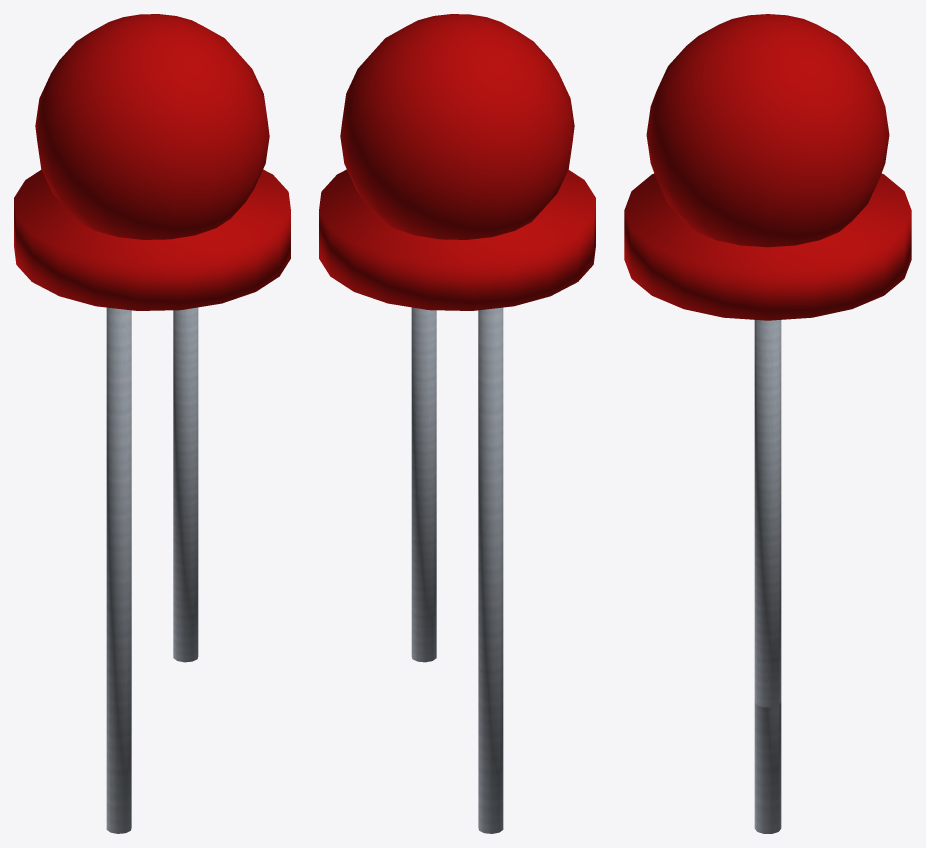
File: LED.obj
The picture shows the model from 3 angles, left to right: view 1: azimuth 30°, elevation 25°; view 2: azimuth 150°, elevation 25°; view 3: azimuth 270°, elevation 25°; orthographic projection. The views are drawn at different scales.
Parts seen in each view (by area): view 1: Lens, Flange, Long_Lead, Short_Lead; view 2: Lens, Flange, Long_Lead, Short_Lead; view 3: Lens, Flange, Short_Lead, Long_Lead.
Part boxes in pixels (x1,y1,x2,y2): Lens: (35, 14, 269, 239); Flange: (14, 169, 290, 310); Long_Lead: (106, 307, 131, 833); Short_Lead: (173, 307, 198, 662); Lens: (340, 14, 574, 239); Flange: (319, 169, 595, 310); Long_Lead: (478, 307, 503, 833); Short_Lead: (411, 307, 436, 662); Lens: (646, 14, 889, 247); Flange: (624, 173, 911, 320); Short_Lead: (754, 320, 781, 707); Long_Lead: (754, 702, 781, 833).
Bounding box in the file's own units: 0.13 × 0.41 × 0.13.
